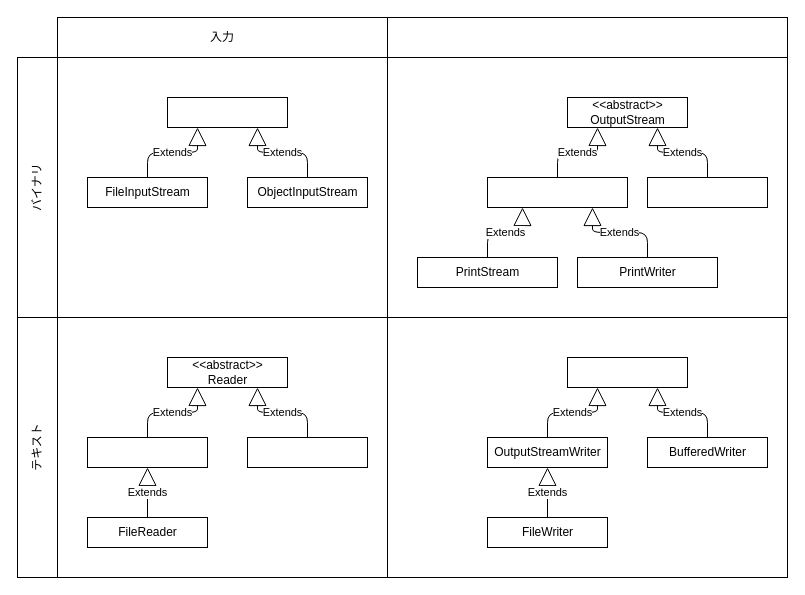
Some shapes in this 805 by 595 pixel diagram are drawn without their labels. The shapes that lost their labels are listed below. From the top down, each one's centre as x and y in pixels, then its label:
(x=587, y=37): 出力
(x=227, y=112): <<abstract>> InputStream
(x=557, y=192): FileOutputStream
(x=707, y=192): ObjectOutputStream
(x=627, y=372): <<abstract>> Writer
(x=147, y=452): InputStreamReader
(x=307, y=452): BufferedReader
